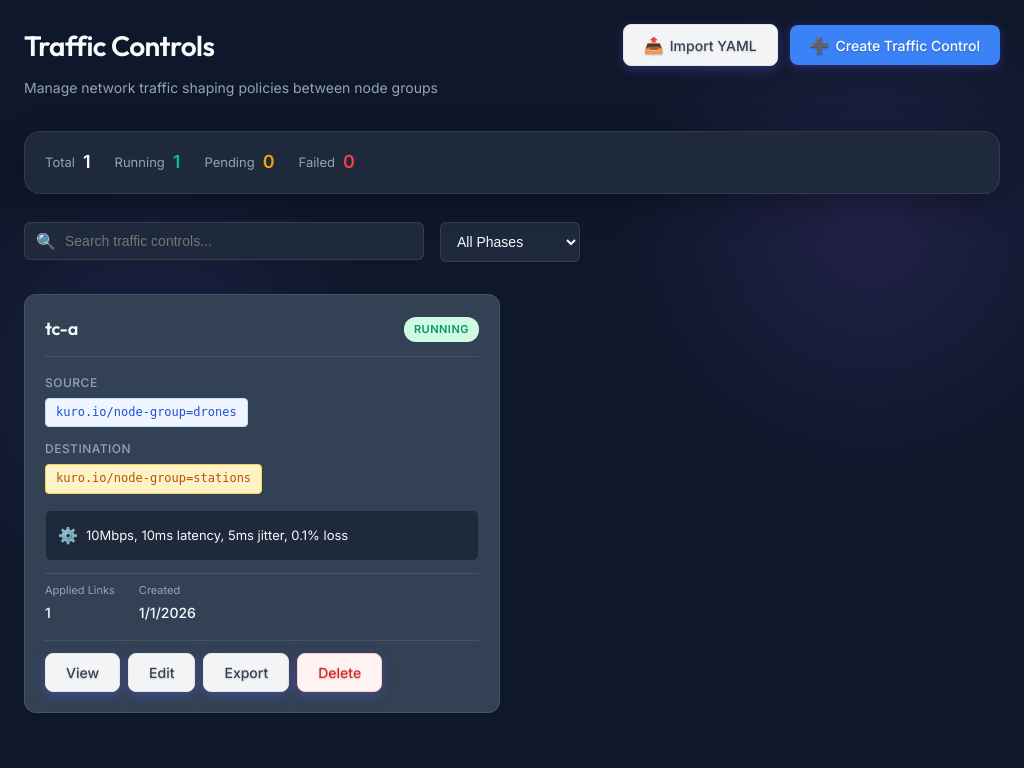
Test: TrafficControlList › shows inline error when delete fails instead of blocking alert
Expected: the heading "tc-a" is shown, [45,315,78,344]
Step 1. Click the button "Delete" → coordinates (340, 673), box [297,653,382,692]
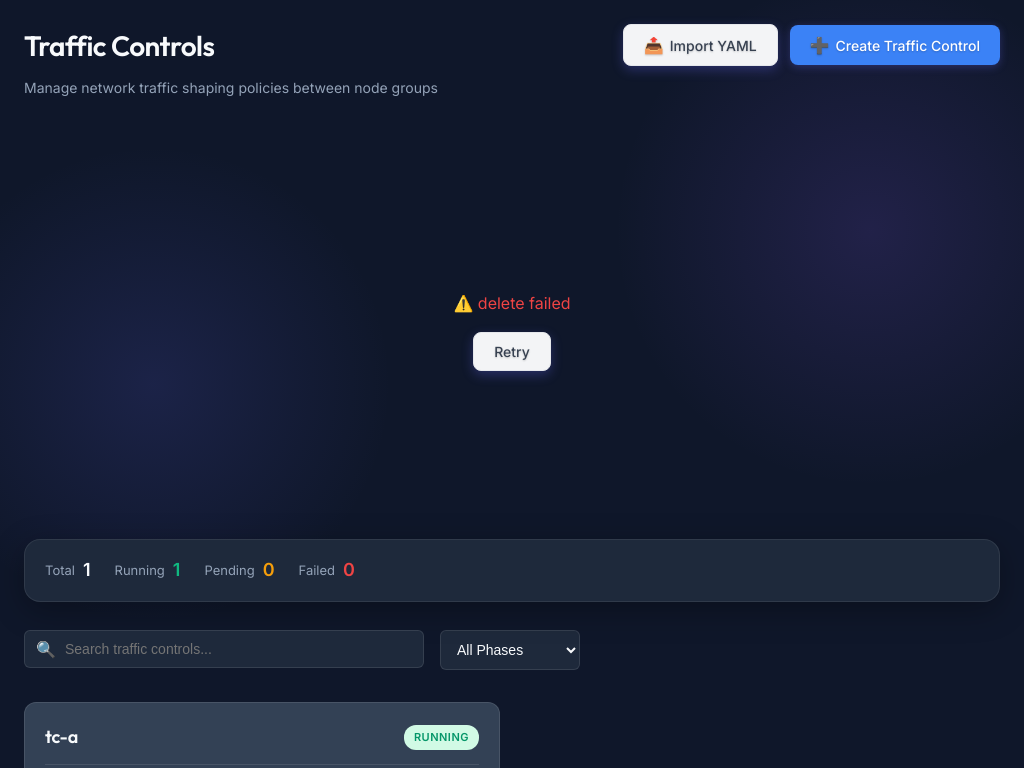
Now the text "⚠️ delete failed" is shown, box [453,291,571,316]
